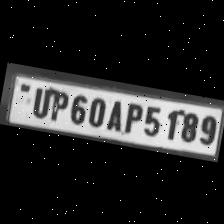0: (83, 92, 108, 128)
1: (159, 104, 183, 141)
5: (137, 102, 165, 138)
6: (64, 88, 89, 124)
8: (175, 107, 201, 144)
9: (194, 111, 219, 146)
A: (103, 96, 125, 131)
P: (119, 98, 144, 135), (44, 86, 69, 122)
U: (26, 82, 52, 118)
